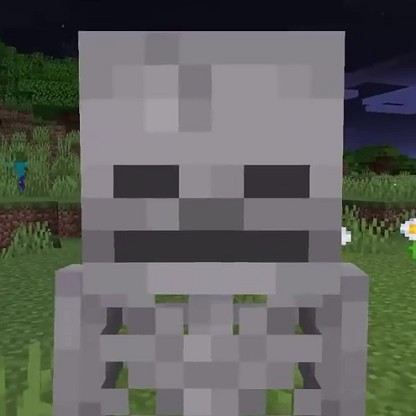skeleton: (53, 29, 373, 412)
